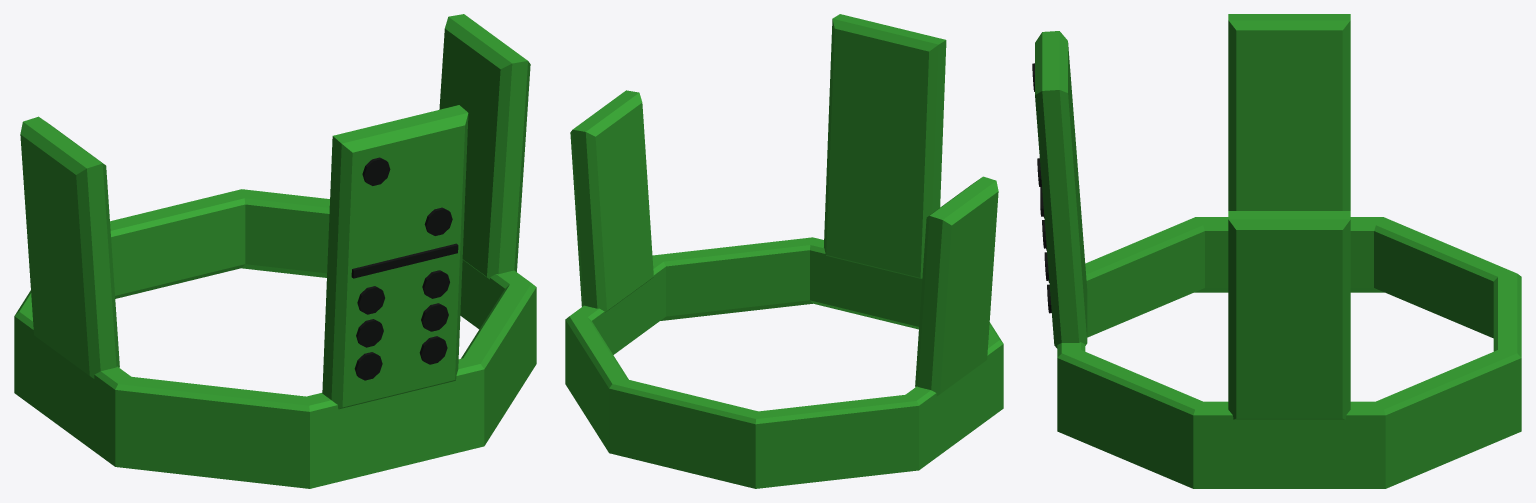
File: Cosmetic_Domino_Crown.glb
3 views of the same model, side by side, from view 1: azimuth 30°, elevation 25°; view 2: azimuth 150°, elevation 25°; view 3: azimuth 270°, elevation 25° (orthographic). The views are drawn at different scales.
Parts seen in each view (by area): view 1: Domino_Crown; view 2: Domino_Crown; view 3: Domino_Crown.
Part boxes in pixels (left/top/right/bottom): Domino_Crown: left=14, top=14, right=536, bottom=488; Domino_Crown: left=565, top=14, right=1003, bottom=488; Domino_Crown: left=1032, top=14, right=1521, bottom=488.
Bounding box in the file's own units: 0.5737 × 0.4179 × 0.5607.
